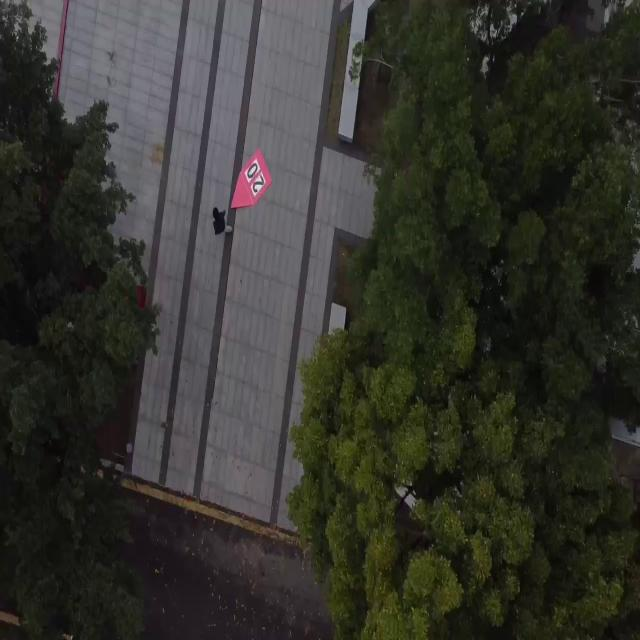-sign-: (230, 146, 272, 210)
